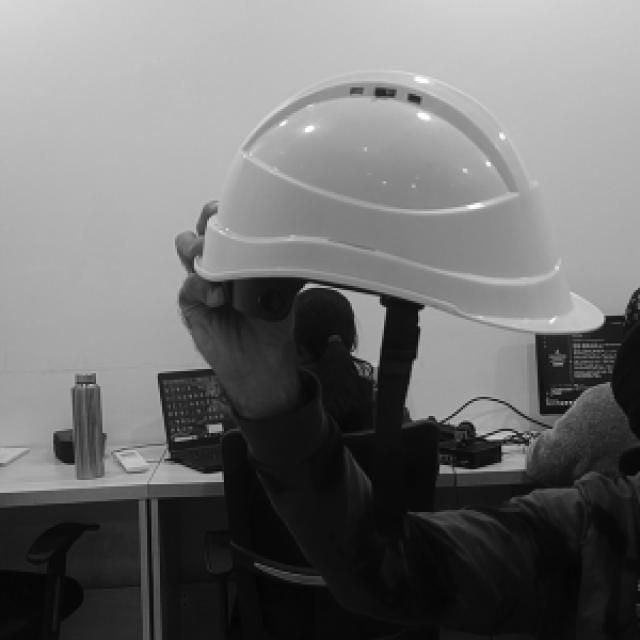safety_helmet: (194, 71, 606, 334)
